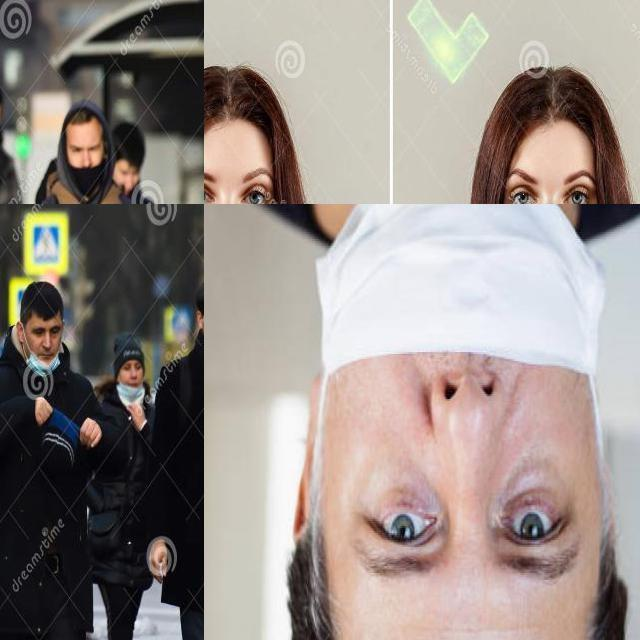hairnet: (316, 205, 572, 434), (70, 151, 101, 192), (28, 338, 59, 374), (120, 371, 143, 400)
